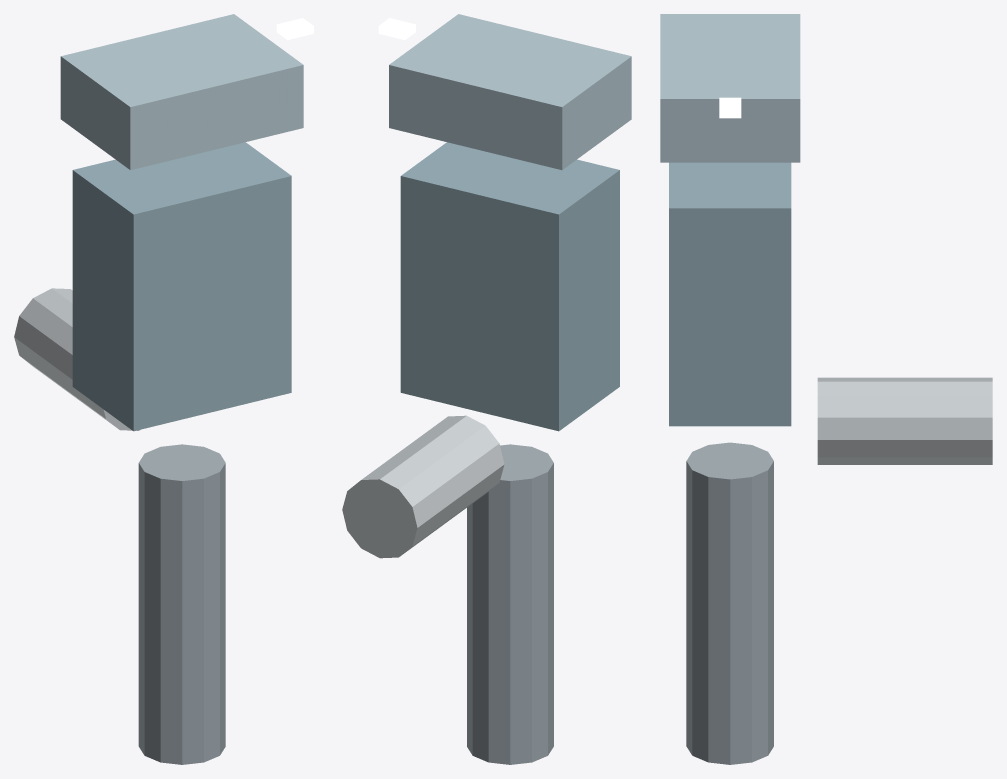
Rendered from filter-wall.glb.
3 views of the same model, side by side, from view 1: azimuth 30°, elevation 25°; view 2: azimuth 150°, elevation 25°; view 3: azimuth 270°, elevation 25° (orthographic).
Parts seen in each view (by area): view 1: fw_body, fw_intake, fw_clip, fw_spout, fw_led; view 2: fw_body, fw_clip, fw_intake, fw_spout, fw_led; view 3: fw_body, fw_intake, fw_clip, fw_spout.
Boxes of the visible parts, x1,y1,x2,y2 form: fw_body: (72, 142, 291, 431); fw_intake: (138, 444, 225, 764); fw_clip: (60, 14, 303, 170); fw_spout: (14, 288, 140, 430); fw_led: (276, 18, 313, 39); fw_body: (400, 142, 619, 431); fw_clip: (389, 14, 631, 169); fw_intake: (467, 444, 553, 764); fw_spout: (342, 415, 504, 558); fw_led: (378, 18, 415, 39); fw_body: (669, 162, 791, 426); fw_intake: (686, 442, 773, 764); fw_clip: (660, 14, 800, 162); fw_spout: (817, 377, 992, 464).
Bounding box in the file's own units: 0.321 × 1 × 0.4318.
